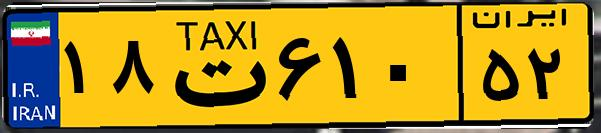0: (385, 28, 445, 110)
1: (330, 28, 385, 110), (57, 26, 110, 100)
2: (525, 38, 570, 115)
5: (475, 38, 525, 113)
6: (270, 28, 330, 110)
8: (110, 28, 158, 98)
ت: (158, 12, 270, 120)
